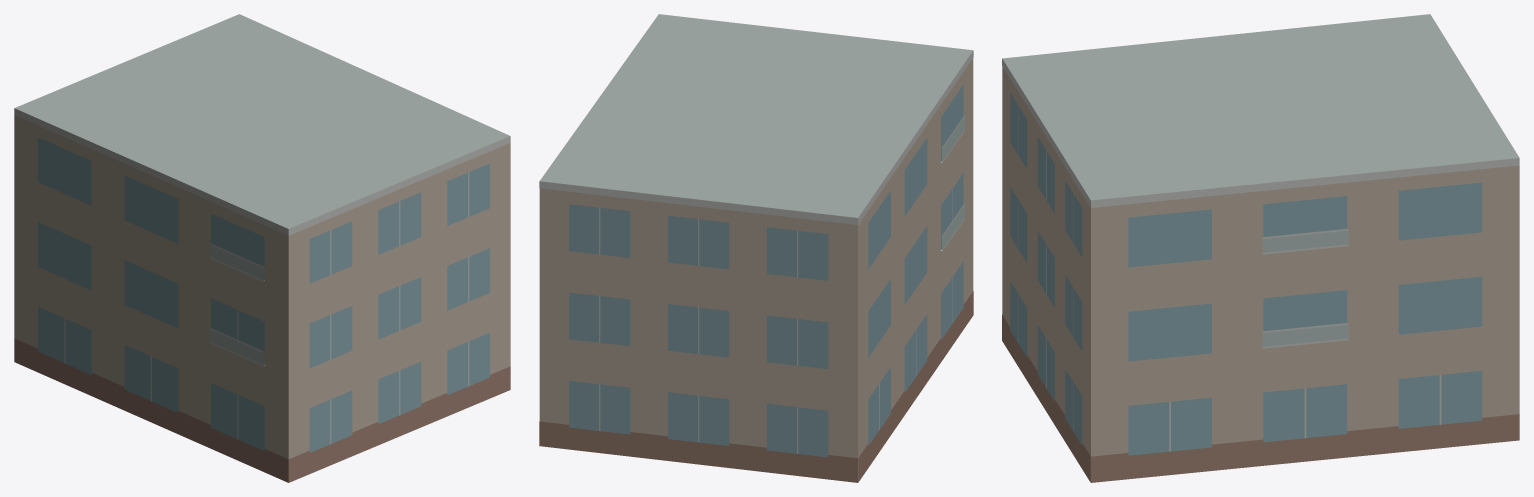
Rendered from survey-upis-32755744.glb.
The picture shows the model from 3 angles, left to right: view 1: azimuth 30°, elevation 25°; view 2: azimuth 150°, elevation 25°; view 3: azimuth 270°, elevation 25°; orthographic projection. The views are drawn at different scales.
Parts seen in each view (by area): view 1: survey-upis-32755744.tmp; view 2: survey-upis-32755744.tmp; view 3: survey-upis-32755744.tmp.
Boxes of the visible parts, x1,y1,x2,y2 form: survey-upis-32755744.tmp: [14, 14, 510, 482]; survey-upis-32755744.tmp: [539, 14, 973, 482]; survey-upis-32755744.tmp: [1002, 14, 1519, 482].
Bounding box in the file's own units: 12.97 × 9.15 × 15.21.
